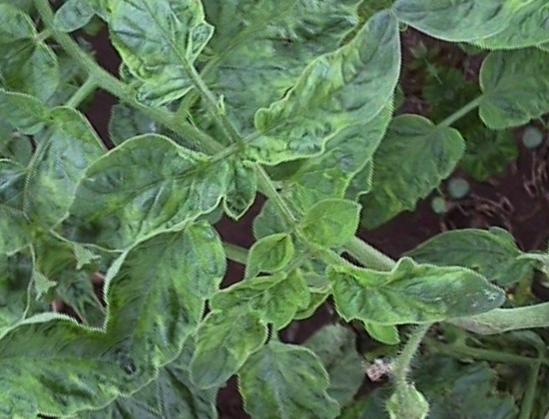Tomato leaf mosaic virus: (33, 97, 251, 293), (77, 204, 280, 401), (228, 4, 438, 187), (317, 192, 516, 383), (158, 251, 327, 398), (82, 0, 250, 110), (202, 0, 382, 84), (223, 323, 363, 419), (289, 183, 376, 264), (0, 75, 56, 150)
